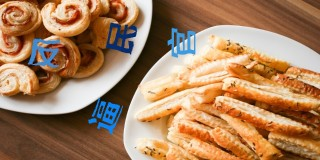反: (27, 37, 60, 68)
官: (166, 27, 197, 57)
民: (105, 21, 137, 54)
逼: (88, 96, 124, 134)
